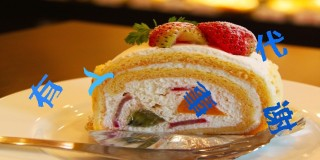事: (184, 81, 217, 117)
人: (84, 66, 113, 96)
代: (255, 30, 288, 62)
有: (28, 74, 62, 108)
谢: (263, 99, 297, 134)
